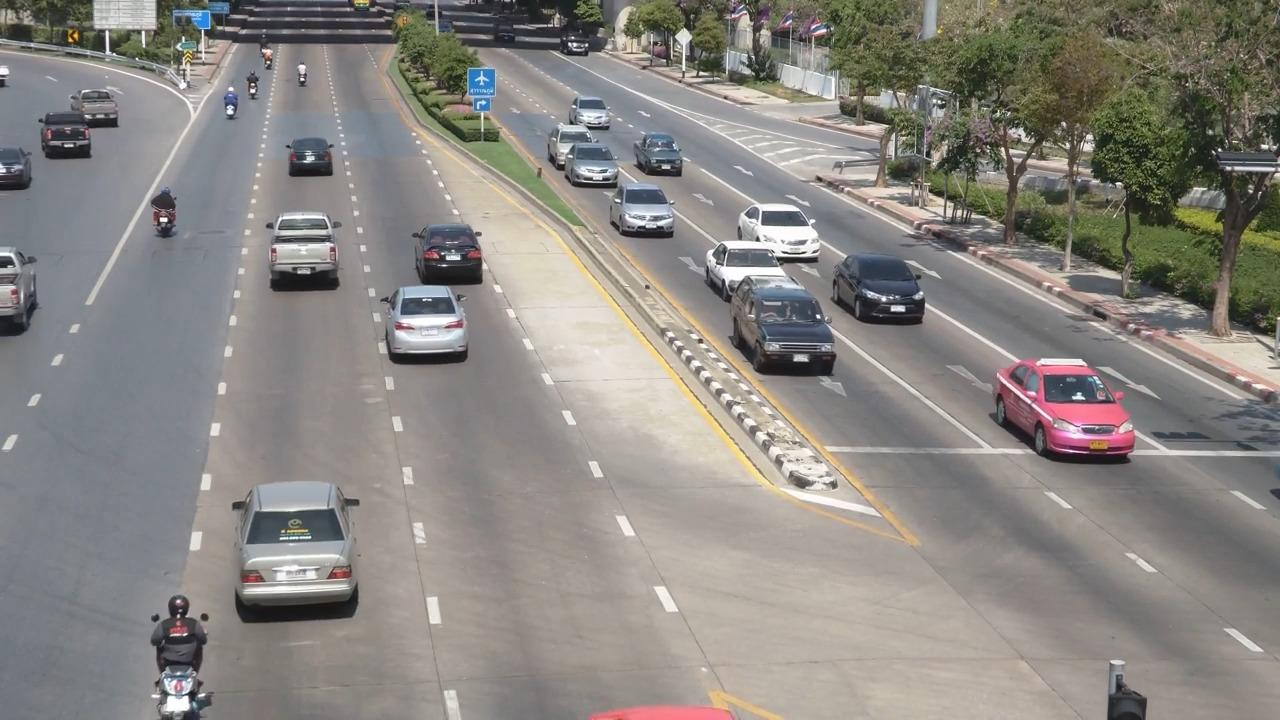CAR: (222, 472, 377, 626), (985, 348, 1149, 468), (729, 275, 849, 384), (379, 273, 480, 373), (256, 227, 350, 333), (831, 248, 945, 334), (741, 186, 838, 261), (411, 211, 492, 286), (702, 236, 795, 298), (600, 178, 683, 240), (625, 128, 700, 189), (28, 107, 95, 165), (277, 130, 342, 180), (567, 145, 625, 196), (559, 85, 614, 133), (542, 125, 602, 167), (70, 78, 123, 123), (1, 147, 29, 230), (0, 56, 39, 110)
MOTOR: (130, 586, 231, 720), (138, 181, 192, 242), (250, 35, 280, 75), (212, 86, 241, 122), (238, 70, 267, 105), (297, 57, 315, 93)
